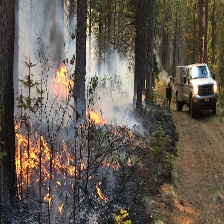fire: (15, 128, 103, 209), (86, 111, 142, 148), (56, 66, 75, 97)
smoke: (20, 4, 145, 114)
